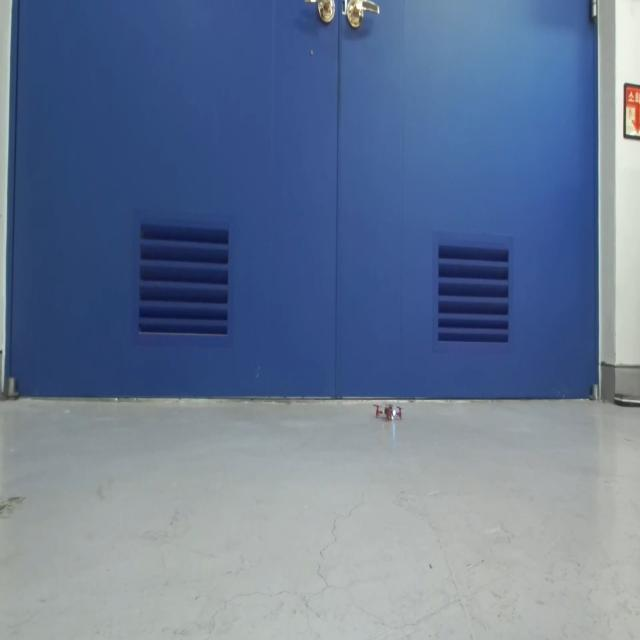crazyflie: (372, 398, 405, 424)
